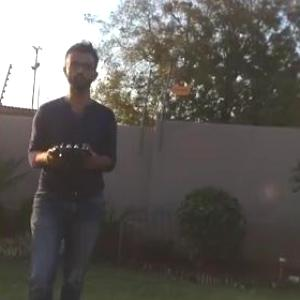follow: (21, 33, 121, 299)
